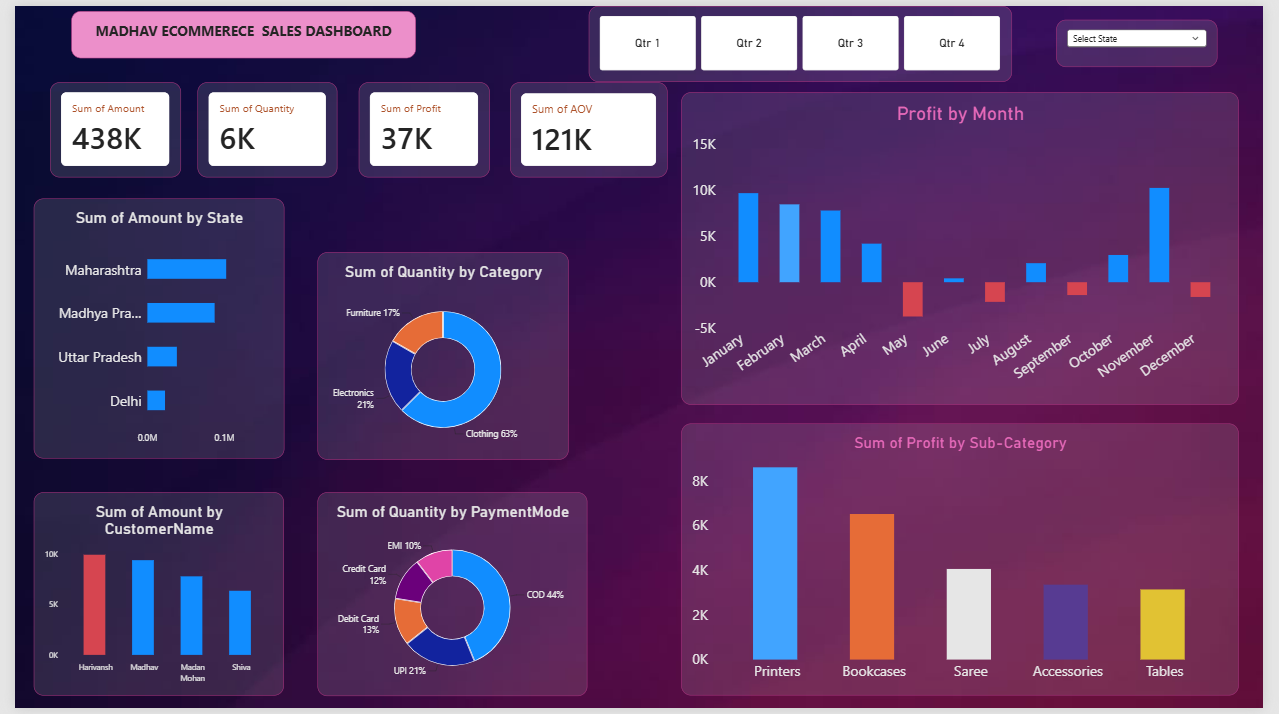

What the dashboard file says about the page in this screenshot:
{"tool":"powerbi","page":{"name":"Page 1","canvas":[1920,1080],"ordinal":0},"visuals":[{"type":"textbox","box":[85.9,7.6,530.4,72.8],"z":1000},{"type":"columnChart","title":"Profit by Month","fields":{"Category":["Orders.Order Date.Variation.Date Hierarchy.Month"],"Y":["Sum(Details.Profit)"]},"box":[1025,132.7,857.7,480.8],"z":2000},{"type":"columnChart","fields":{"Category":["Details.Sub-Category"],"Y":["Sum(Details.Profit)"]},"box":[1024.3,642.4,857.8,418],"z":3000},{"type":"donutChart","fields":{"Category":["Details.Category"],"Y":["Sum(Details.Quantity)"]},"box":[465.4,378.8,386.5,319.2],"z":4000},{"type":"donutChart","fields":{"Category":["Details.PaymentMode"],"Y":["Sum(Details.Quantity)"]},"box":[465.4,748.1,415.4,313.5],"z":5000},{"type":"cardVisual","fields":{"Data":["Sum(Details.Amount)"]},"box":[53.8,117.3,201.9,146.2],"z":5001},{"type":"cardVisual","fields":{"Data":["Sum(Details.Quantity)"]},"box":[280.8,117.3,215.4,146.2],"z":5002},{"type":"cardVisual","fields":{"Data":["Sum(Details.Profit)"]},"box":[528.8,117.3,201.9,146.2],"z":5003},{"type":"cardVisual","fields":{"Data":["Sum(Details.AOV)"]},"box":[761.5,117.3,242.3,146.2],"z":5004},{"type":"barChart","fields":{"Category":["Orders.State"],"Y":["Sum(Details.Amount)"]},"box":[29,296.8,385.5,399.9],"z":5005},{"type":"columnChart","fields":{"Category":["Orders.CustomerName"],"Y":["Sum(Details.Amount)"]},"box":[29,748,385,313],"z":5006},{"type":"advancedSlicerVisual","fields":{"Values":["Orders.Order Date.Variation.Date Hierarchy.Quarter"]},"box":[883.3,0,651,116.7],"z":5007},{"type":"listSlicer","fields":{"Values":["Orders.State"]},"box":[1602.1,20.8,247.9,72.9],"z":5010}]}

Visuals, with their boxes in screenshot pixels (x1, y1, x2, y2), scaled from the page's 1920x1080 canvas onto the 1279x714 screenshot:
textbox: bbox(57, 5, 411, 53)
"Profit by Month" columnChart: bbox(683, 88, 1254, 406)
columnChart - Details.Sub-Category x Sum(Details.Profit): bbox(682, 425, 1254, 701)
donutChart - Details.Category x Sum(Details.Quantity): bbox(310, 250, 567, 461)
donutChart - Details.PaymentMode x Sum(Details.Quantity): bbox(310, 495, 587, 702)
cardVisual - Sum(Details.Amount): bbox(36, 78, 170, 174)
cardVisual - Sum(Details.Quantity): bbox(187, 78, 331, 174)
cardVisual - Sum(Details.Profit): bbox(352, 78, 487, 174)
cardVisual - Sum(Details.AOV): bbox(507, 78, 669, 174)
barChart - Orders.State x Sum(Details.Amount): bbox(19, 196, 276, 461)
columnChart - Orders.CustomerName x Sum(Details.Amount): bbox(19, 495, 276, 701)
advancedSlicerVisual - Orders.Order Date.Variation.Date Hierarchy.Quarter: bbox(588, 0, 1022, 77)
listSlicer - Orders.State: bbox(1067, 14, 1232, 62)
